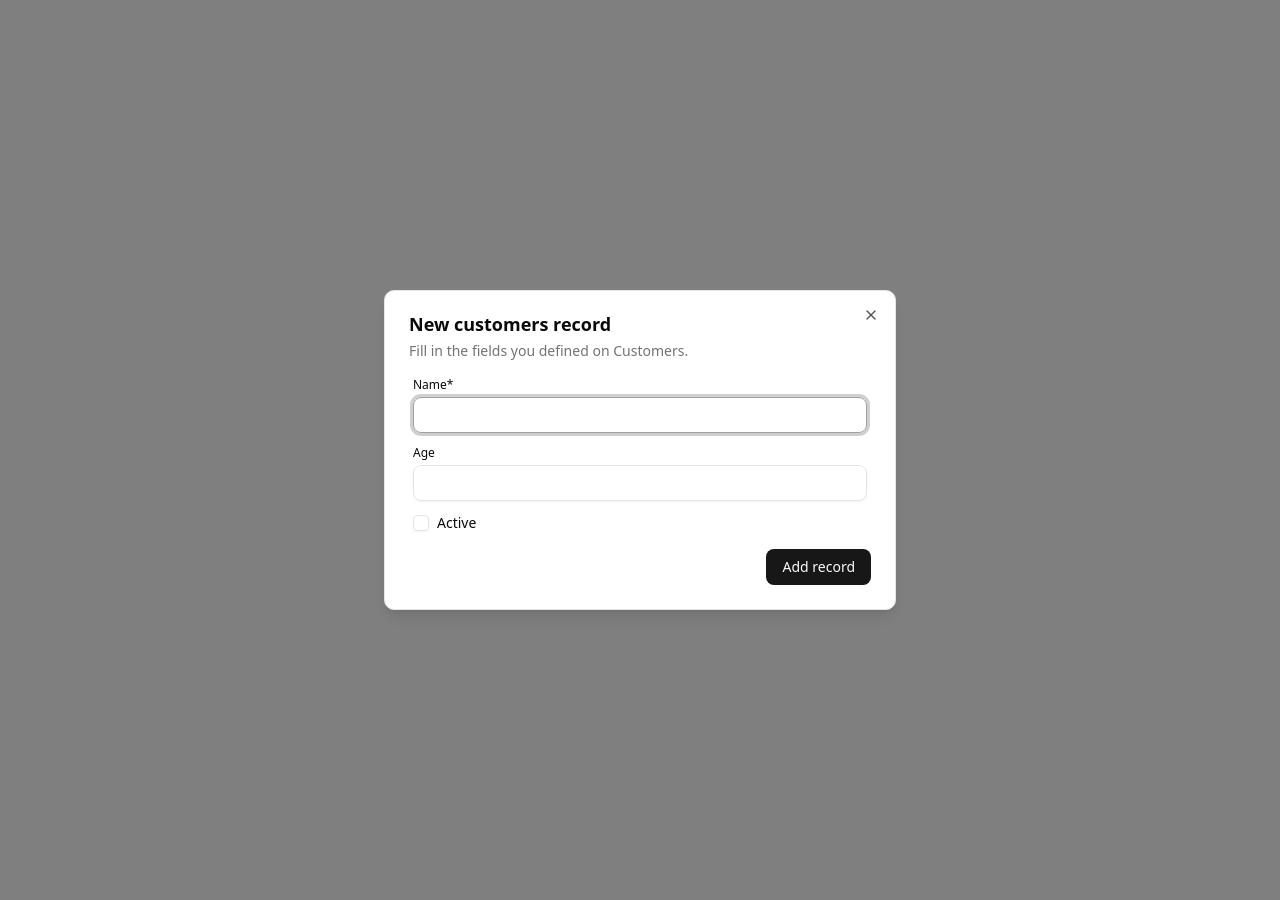
Test case: RecordDialog › surfaces the server's message when a write is refused
Type "Ada" into the field labelled "Name*" at (640,415), box x1=413 y1=397 x2=867 y2=433
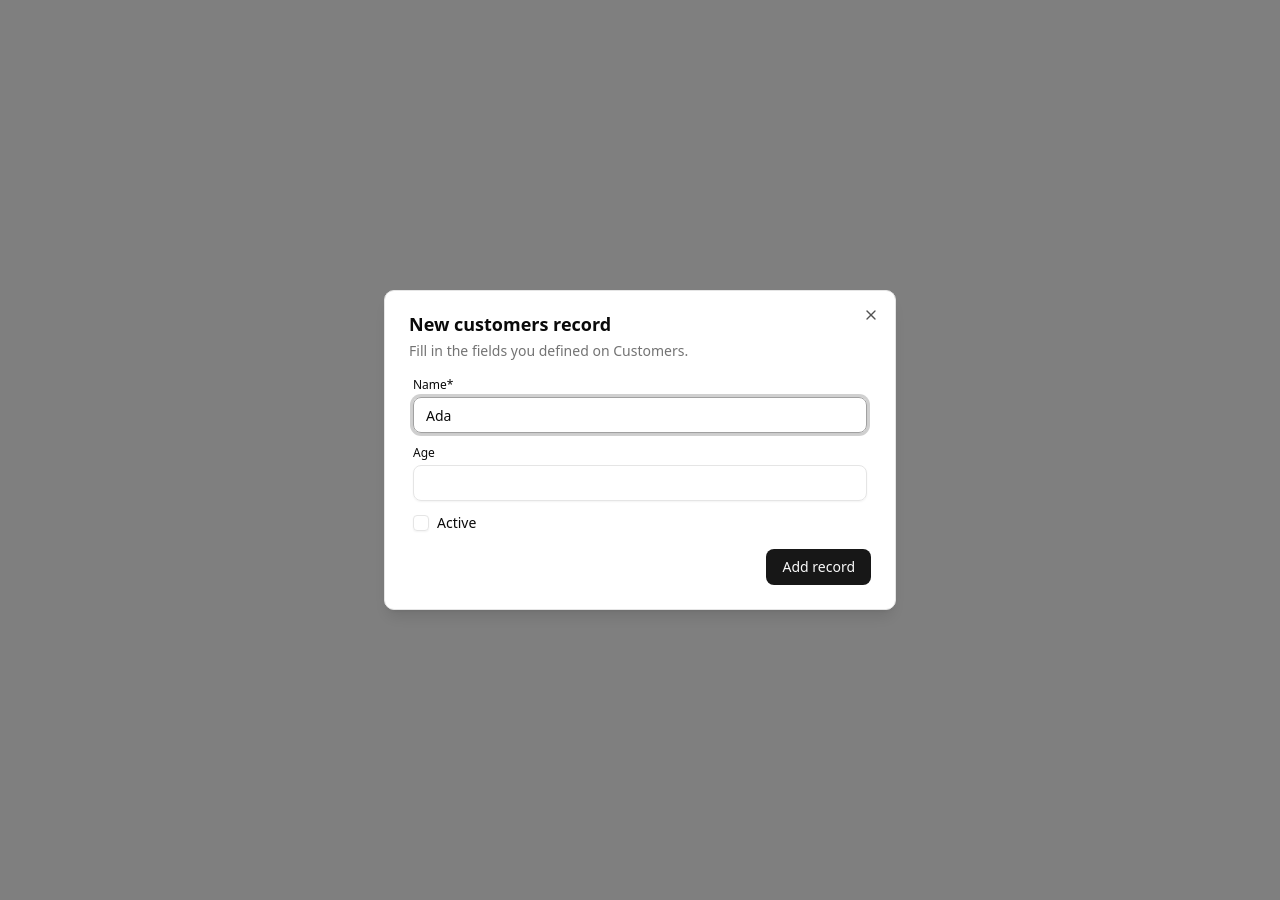
Click the button "Add record" at (819,567), box x1=766 y1=549 x2=871 y2=585
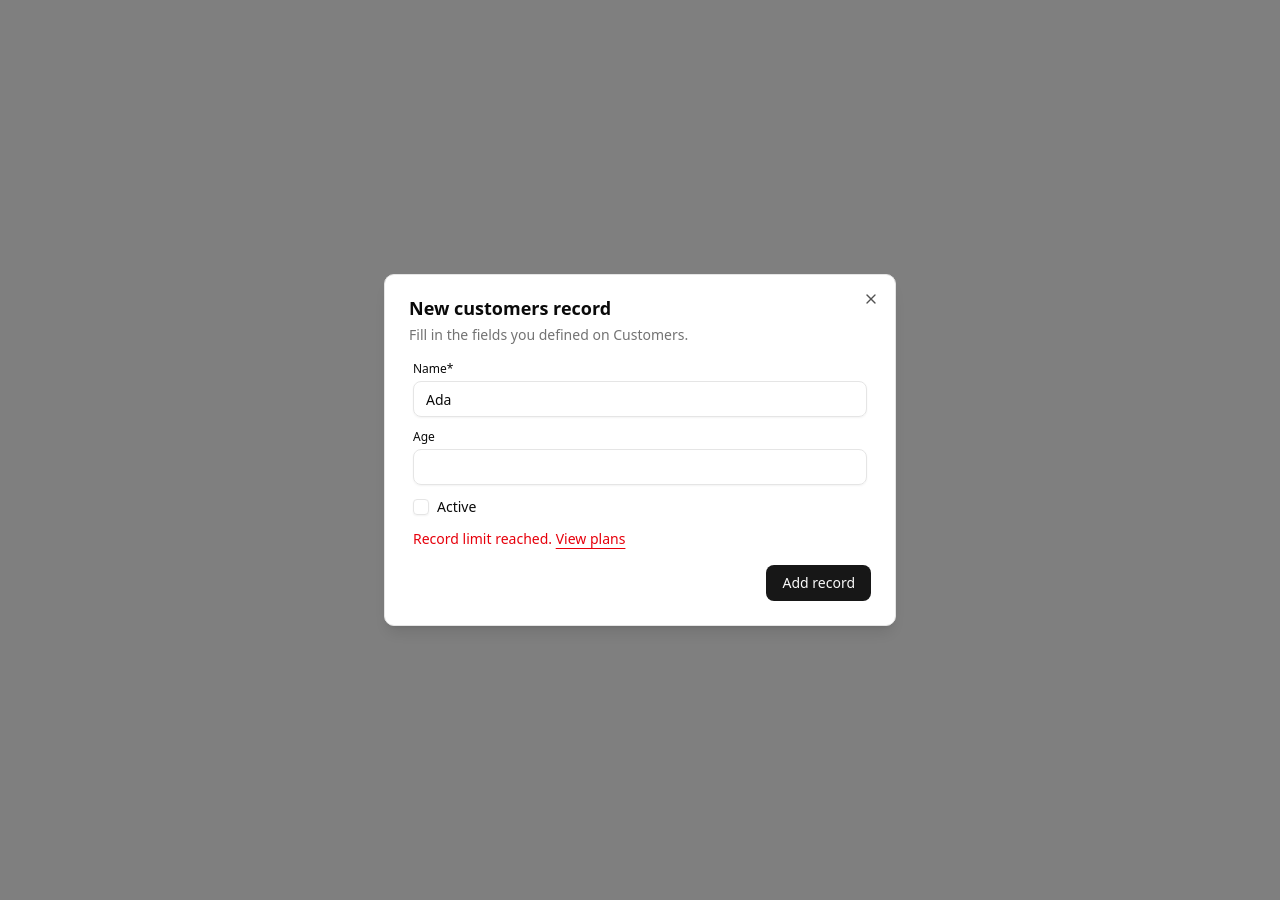
Result: the message shows "Record limit reached." at x1=413 y1=529 x2=552 y2=548
